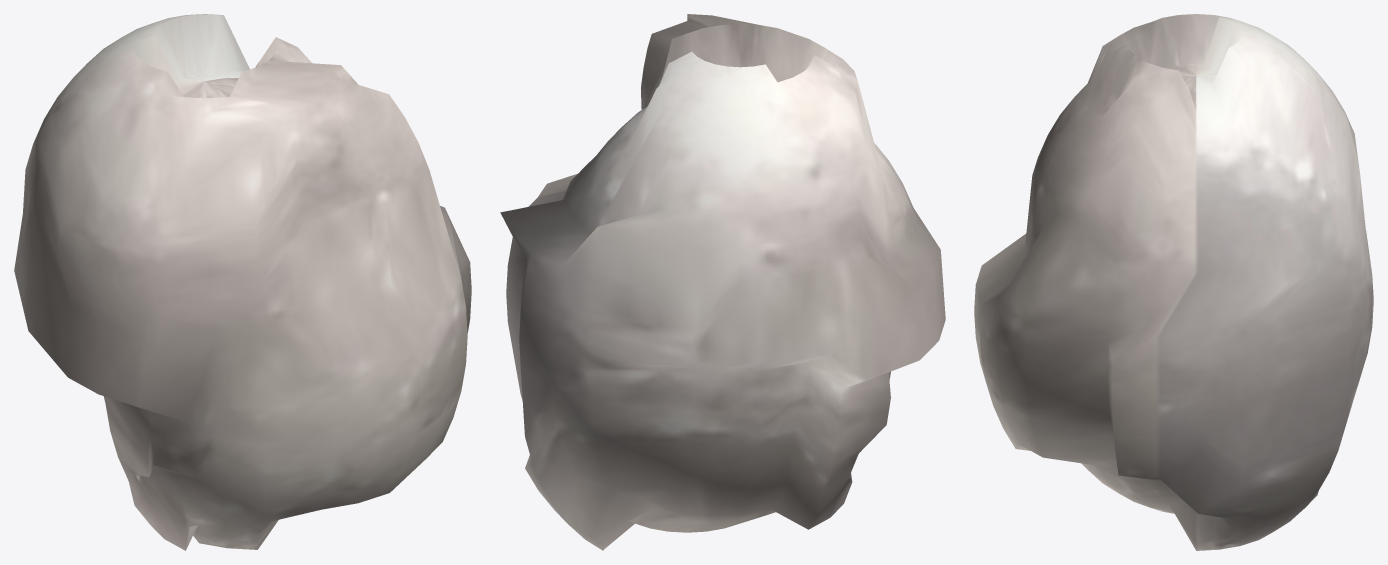
Rendered from asteroid-small.obj.
3 renders of one model, left to right at view 1: azimuth 30°, elevation 25°; view 2: azimuth 150°, elevation 25°; view 3: azimuth 270°, elevation 25°, orthographic. The views are drawn at different scales.
Visible parts, largest first — view 1: Asteroid; view 2: Asteroid; view 3: Asteroid.
Part boxes in pixels (<box>): Asteroid: <box>14,14,471,550</box>; Asteroid: <box>500,14,945,550</box>; Asteroid: <box>974,14,1373,550</box>.
Size of the model in its own units: 1.15 by 1.42 by 1.13.
1 material, 1 textured.
